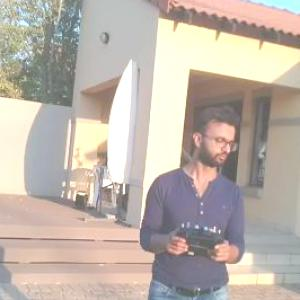follow: (133, 101, 248, 299)
